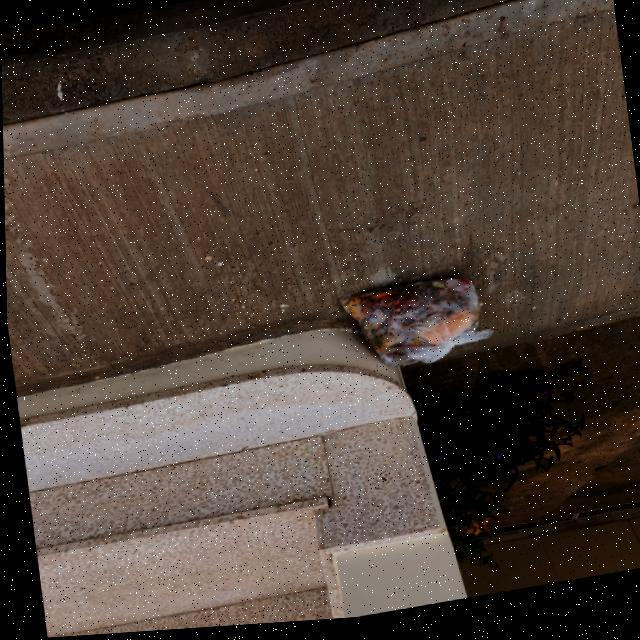Organic Waste -White Bag-: (329, 265, 497, 385)
